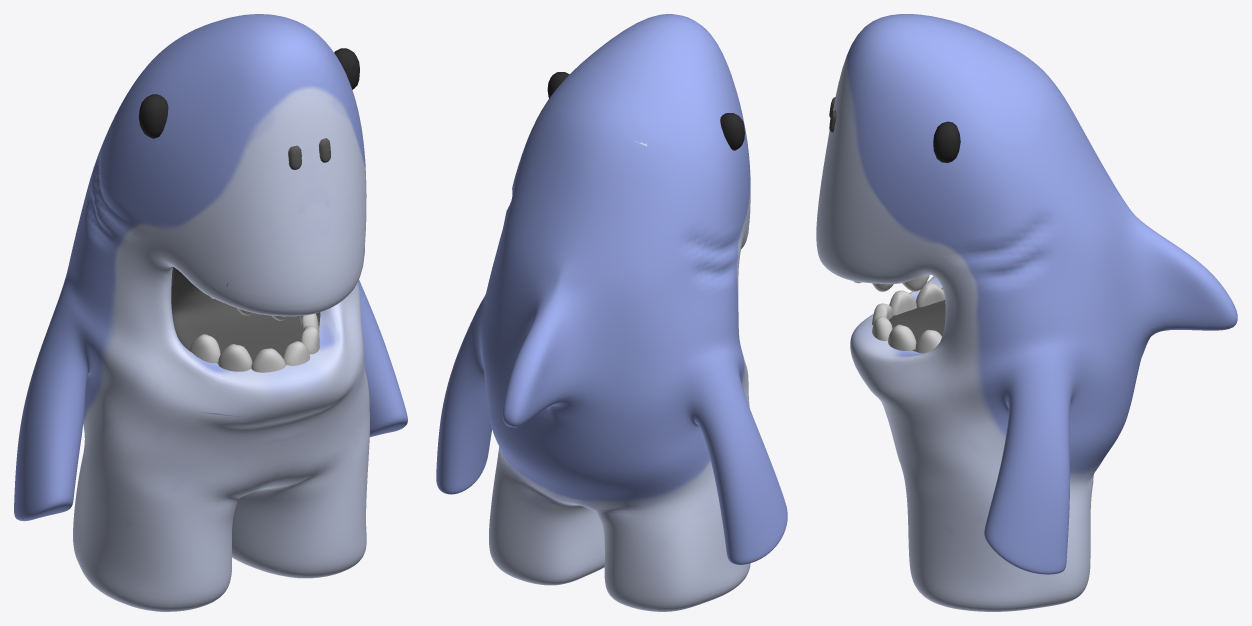
Rendered from shark3.gltf.
3 renders of one model, left to right at view 1: azimuth 30°, elevation 25°; view 2: azimuth 150°, elevation 25°; view 3: azimuth 270°, elevation 25°, orthographic. The views are drawn at different scales.
Visible parts, largest first — view 1: Cube.011, Cube.009, Cube.008, Cylinder; view 2: Cube.011, Cube.008; view 3: Cube.011, Cube.009, Cube.008.
Boxes of the visible parts, x1=… form: Cube.011: x1=14, y1=14, x2=407, y2=611; Cube.009: x1=189, y1=313, x2=319, y2=372; Cube.008: x1=138, y1=48, x2=359, y2=138; Cylinder: x1=288, y1=138, x2=330, y2=169; Cube.011: x1=436, y1=14, x2=787, y2=611; Cube.008: x1=547, y1=72, x2=744, y2=150; Cube.011: x1=816, y1=14, x2=1237, y2=611; Cube.009: x1=872, y1=282, x2=944, y2=353; Cube.008: x1=933, y1=121, x2=960, y2=162.
Size of the model in its own units: 1.39 by 2.05 by 1.44.
5 materials, 1 textured.
